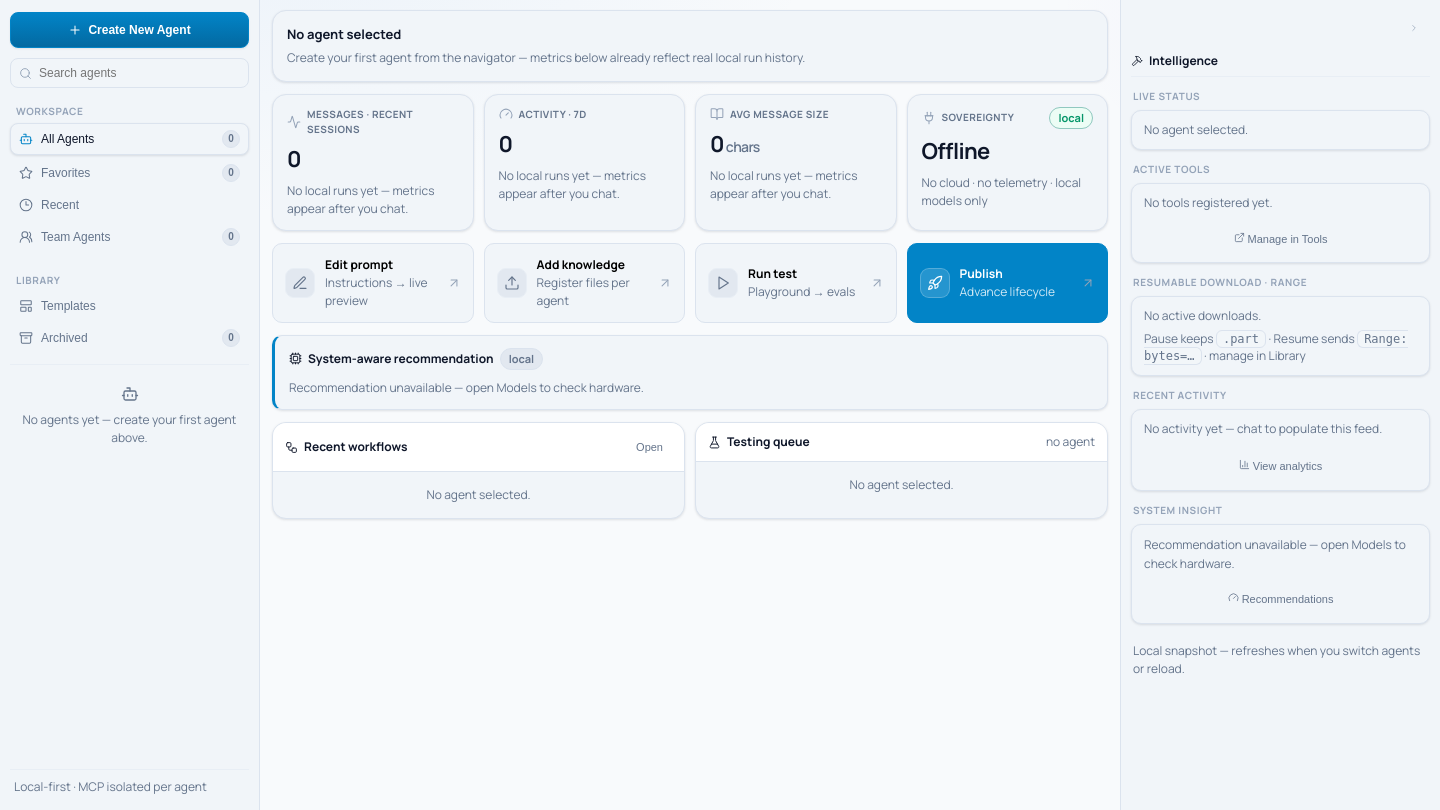
Scenario: Agent Studio — greenfield command center › has collapsible right intelligence panel with live status, active tools, download info, recent activity
This screenshot has width=1440, height=810.
expect the element named "Intelligence panel" is shown: met, box left=1120, top=0, right=1439, bottom=809
expect the text "Live status" is shown: met, box left=1133, top=89, right=1200, bottom=103
# Collapse via header toggle (there are two collapse buttons — pick the header one)
Click the button named "Collapse intelligence panel". click: (1414, 28)
box: left=1402, top=16, right=1426, bottom=40
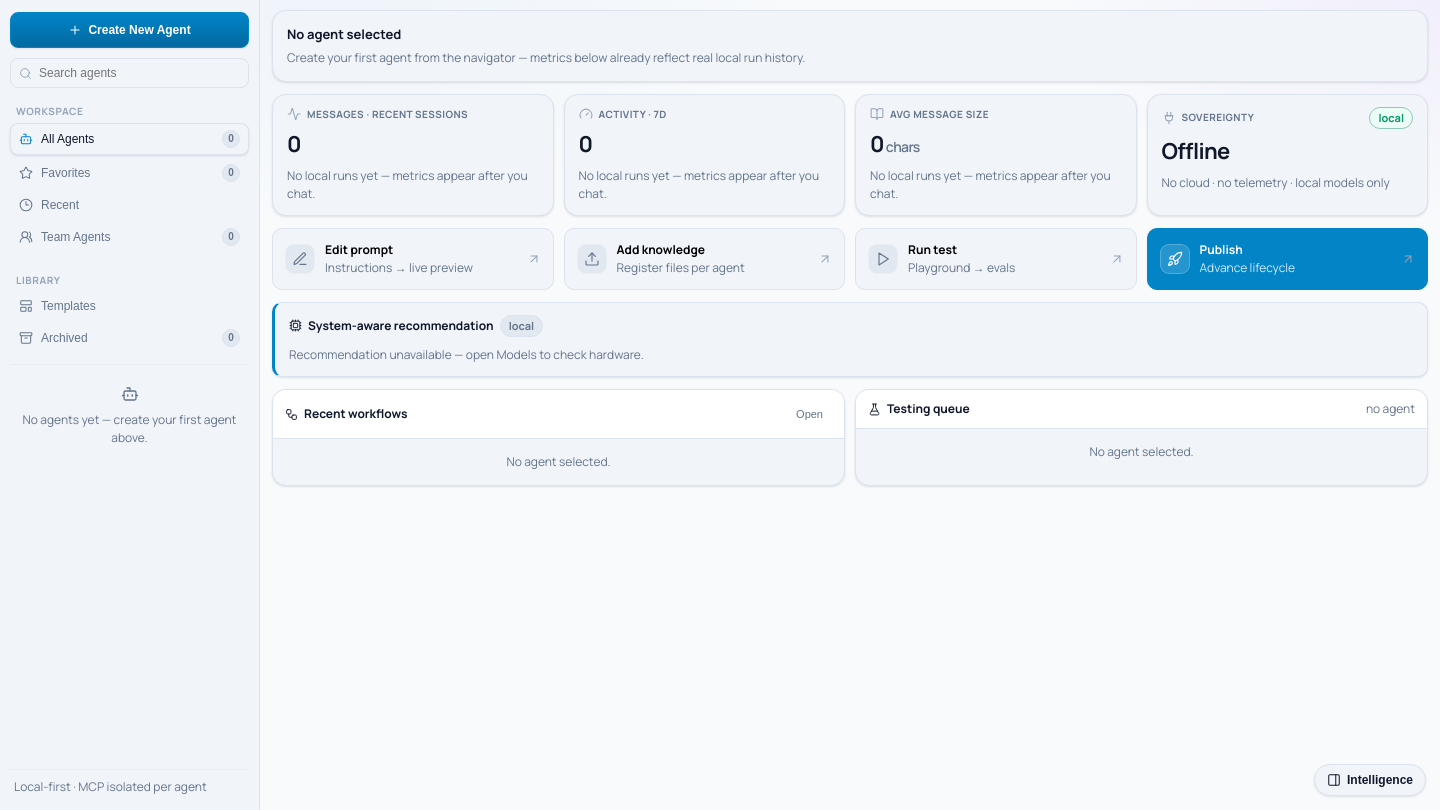
expect the element with test id "agent-studio" has class "as-shell--collapsed-right": met
# Expand via toggle
Click the button with aria-label "Show intelligence panel". click: (1370, 780)
box: left=1314, top=764, right=1426, bottom=796
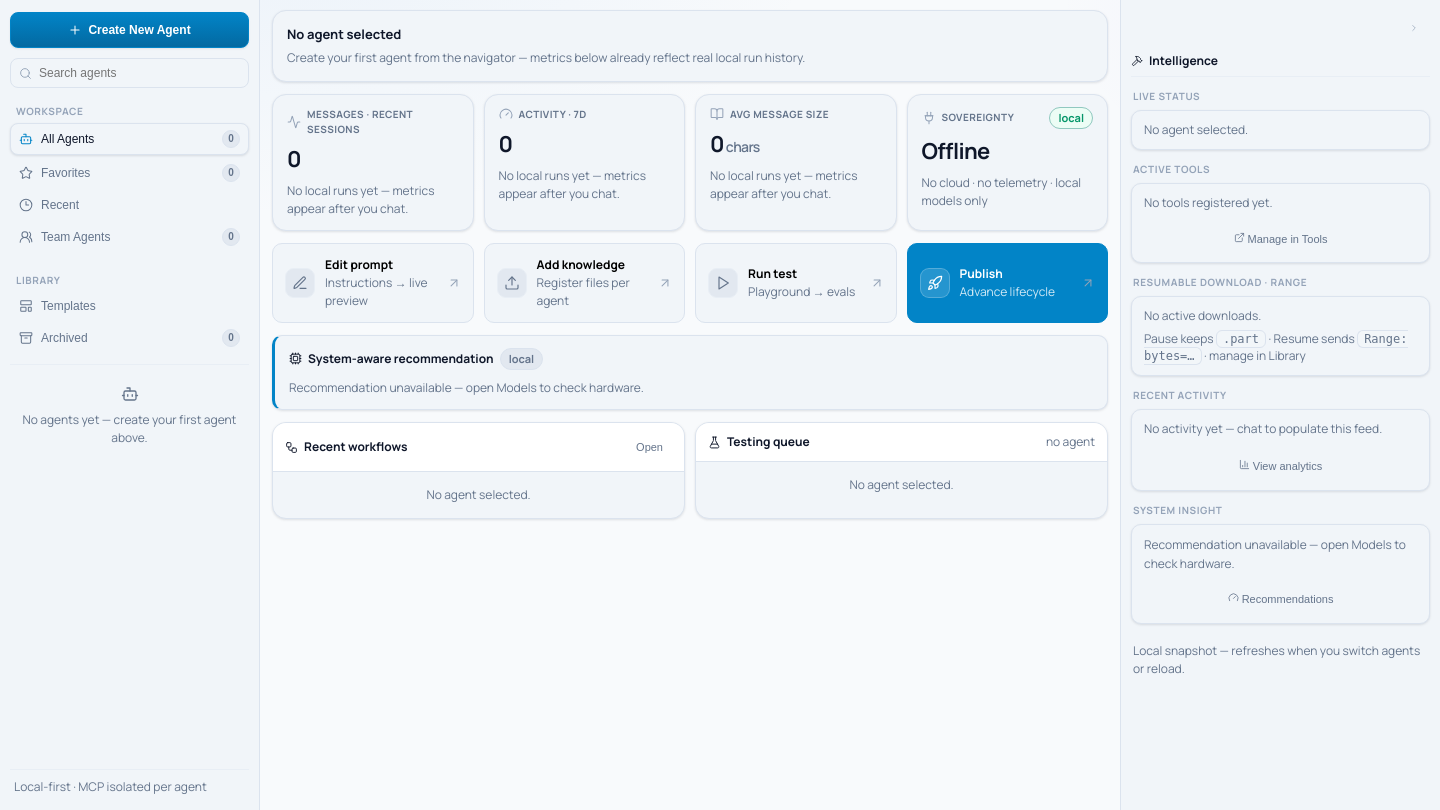
expect the element named "Intelligence panel" is shown: met, box left=1120, top=0, right=1439, bottom=809
